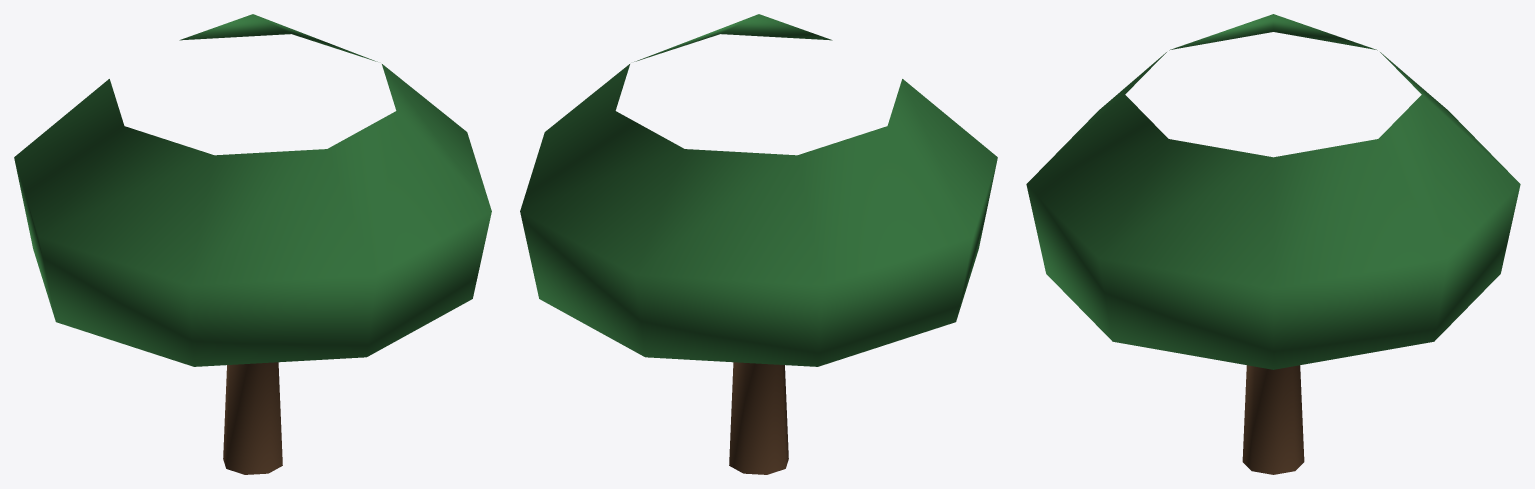
Rendered from broadleaf-spreading.gltf.
3 views of the same model, side by side, from view 1: azimuth 30°, elevation 25°; view 2: azimuth 150°, elevation 25°; view 3: azimuth 270°, elevation 25° (orthographic).
Visible parts, largest first — view 1: broadleaf-spreading; view 2: broadleaf-spreading; view 3: broadleaf-spreading.
Part boxes in pixels (<box>): broadleaf-spreading: <box>14,14,491,474</box>; broadleaf-spreading: <box>520,14,997,474</box>; broadleaf-spreading: <box>1026,14,1520,474</box>.
Size of the model in its own units: 1 by 1 by 1.
